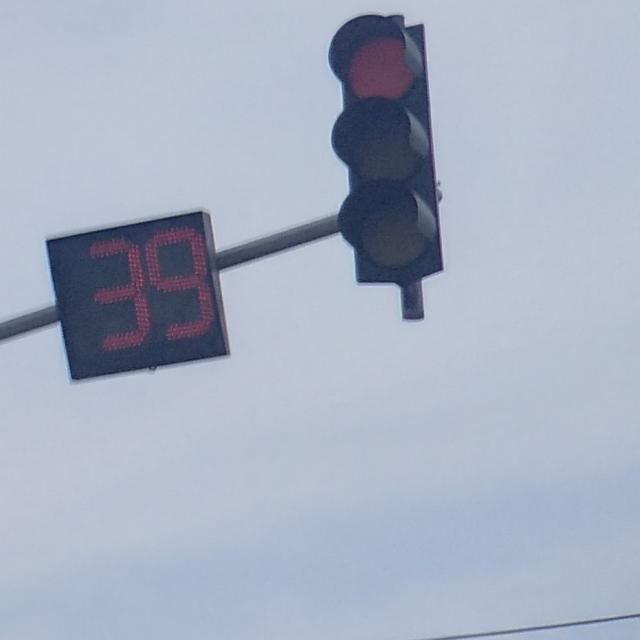red light: (326, 13, 444, 284)
